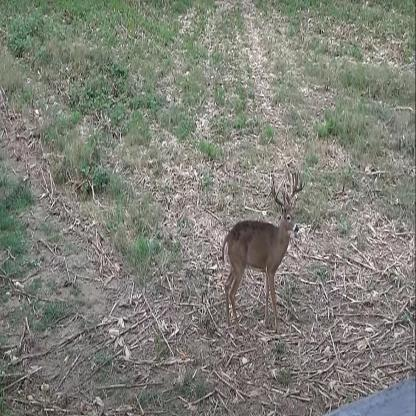Deer: (218, 166, 308, 336)
